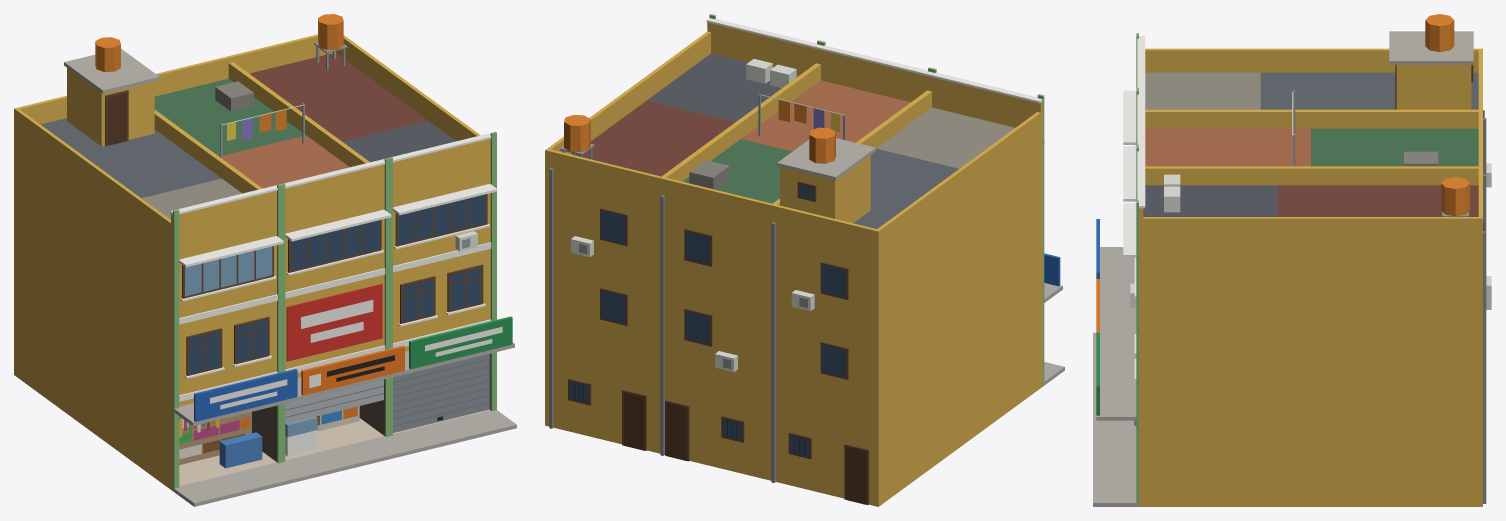
The model's file is ruko_09.glb.
3 views of the same model, side by side, from view 1: azimuth 30°, elevation 25°; view 2: azimuth 150°, elevation 25°; view 3: azimuth 270°, elevation 25° (orthographic). The views are drawn at different scales.
Parts seen in each view (by area): view 1: ruko_09; view 2: ruko_09; view 3: ruko_09.
Part boxes in pixels (x1=…): ruko_09: x1=14, y1=14, x2=516, y2=506; ruko_09: x1=545, y1=14, x2=1064, y2=506; ruko_09: x1=1093, y1=14, x2=1491, y2=506.
Size of the model in its own units: 14 by 13.64 by 13.86.
